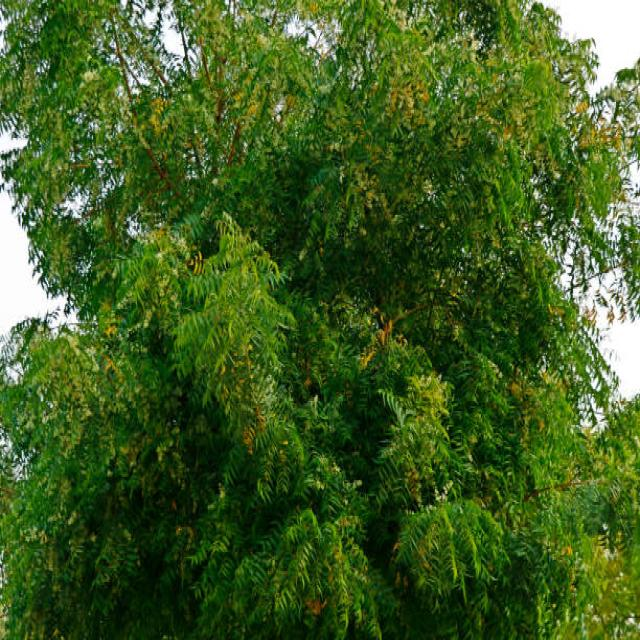Neem-Tree: (86, 104, 574, 640)
